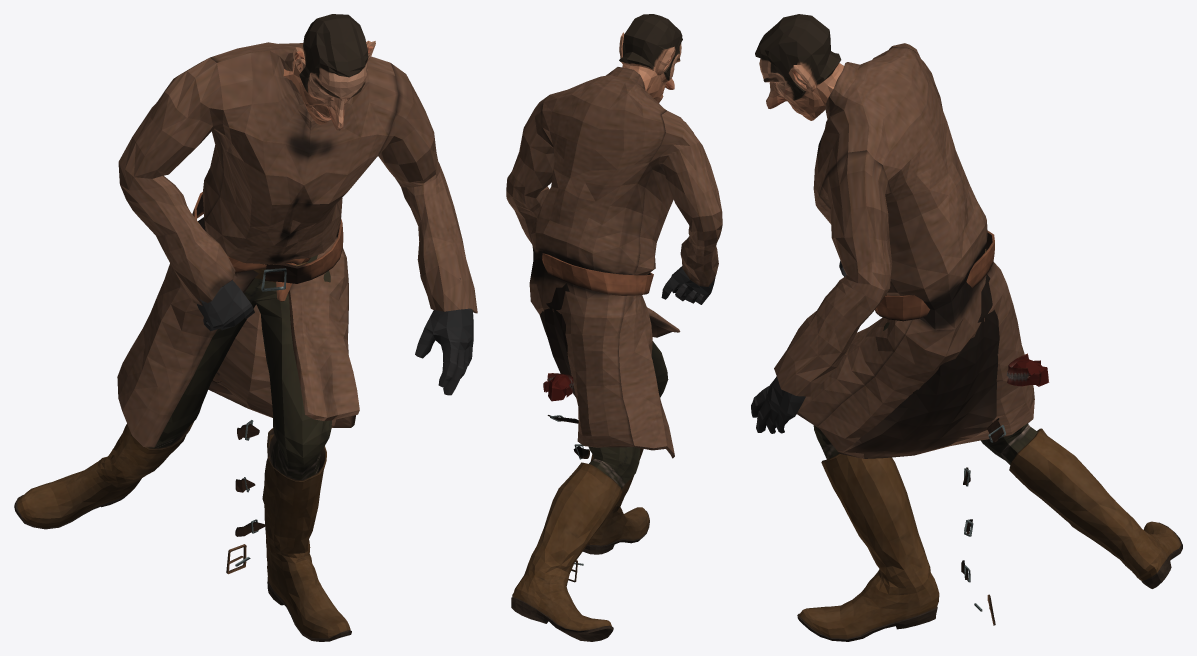
File: sniper-inj-walk_joined_000015.obj
3 renders of one model, left to right at view 1: azimuth 30°, elevation 25°; view 2: azimuth 150°, elevation 25°; view 3: azimuth 270°, elevation 25°, orthographic. The views are drawn at different scales.
Parts seen in each view (by area): view 1: Shoes; view 2: Shoes; view 3: Shoes.
Part boxes in pixels (box(x1,y1,x2,y2)): Shoes: box(14, 14, 477, 641); Shoes: box(506, 14, 722, 641); Shoes: box(751, 14, 1182, 641).
Size of the model in its own units: 1.1 by 2.28 by 1.46.
